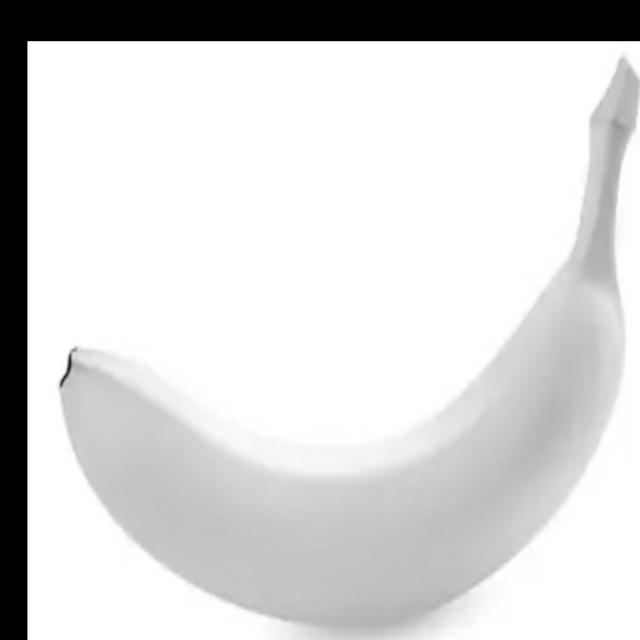Ripe: (42, 52, 640, 636)
